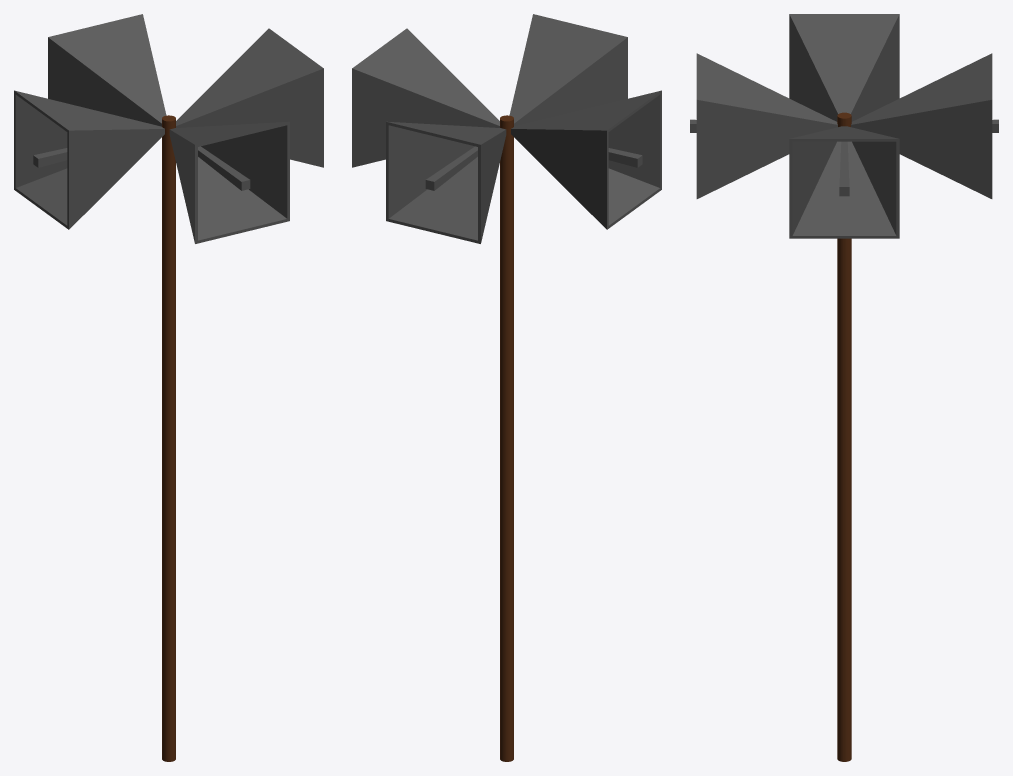
Rendered from ARsiren.glb.
3 renders of one model, left to right at view 1: azimuth 30°, elevation 25°; view 2: azimuth 150°, elevation 25°; view 3: azimuth 270°, elevation 25°, orthographic.
Parts seen in each view (by area): view 1: Cube.002; view 2: Cube.002; view 3: Cube.002.
Boxes of the visible parts, x1,y1,x2,y2 form: Cube.002: (14, 14, 323, 761); Cube.002: (352, 14, 661, 761); Cube.002: (690, 14, 998, 761).
Size of the model in its own units: 2.61 by 6.37 by 2.61.
